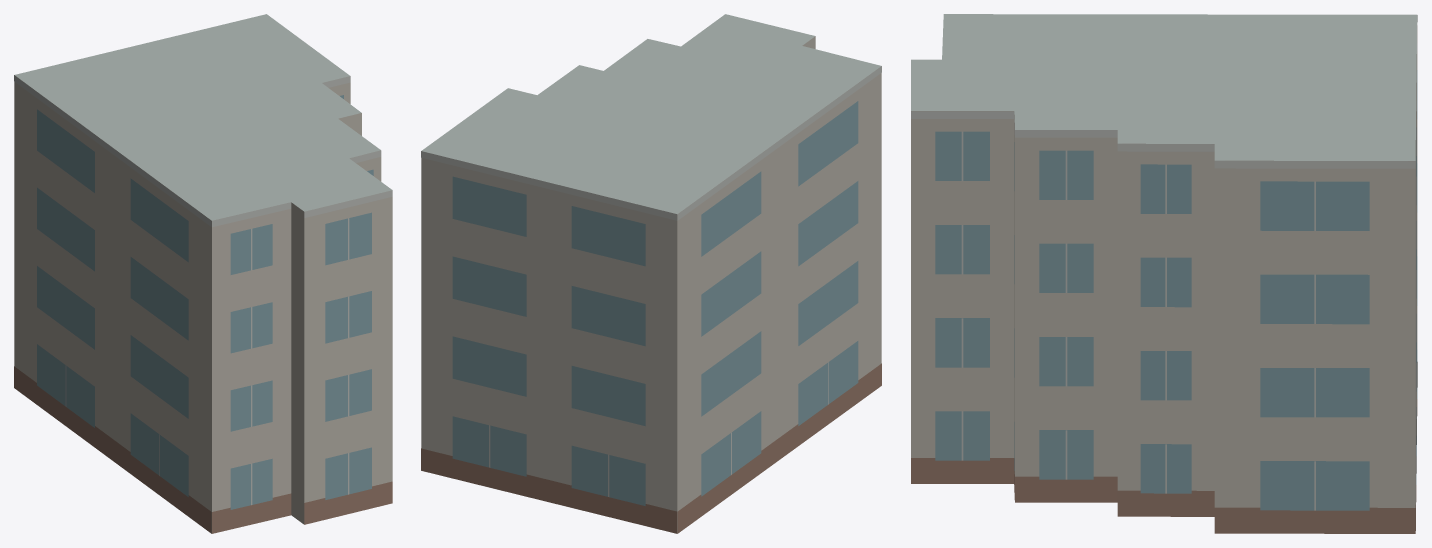
The model's file is survey-upis-32614066.glb.
3 views of the same model, side by side, from view 1: azimuth 30°, elevation 25°; view 2: azimuth 150°, elevation 25°; view 3: azimuth 270°, elevation 25° (orthographic). The views are drawn at different scales.
Parts seen in each view (by area): view 1: survey-upis-32614066.tmp; view 2: survey-upis-32614066.tmp; view 3: survey-upis-32614066.tmp.
Boxes of the visible parts, x1,y1,x2,y2 form: survey-upis-32614066.tmp: (14, 14, 392, 533); survey-upis-32614066.tmp: (421, 14, 881, 533); survey-upis-32614066.tmp: (911, 14, 1417, 533).
Bounding box in the file's own units: 9.91 × 11.7 × 14.42.
